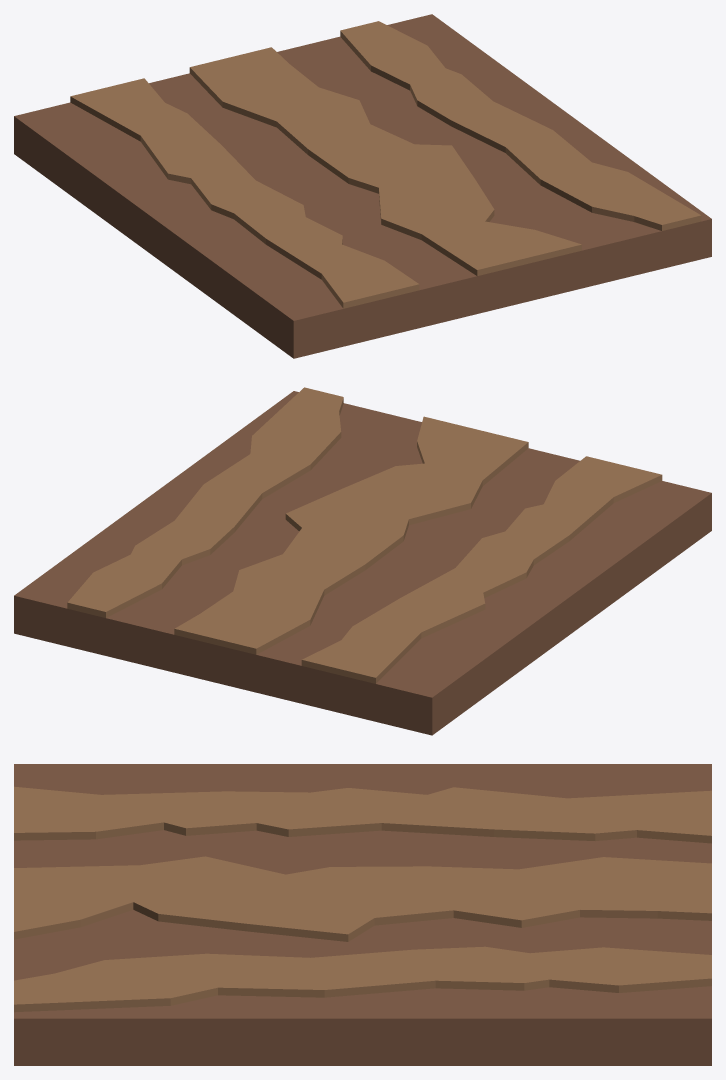
The model's file is CHAOMILHARAL2.fbx.
3 views of the same model, one above another, from view 1: azimuth 30°, elevation 25°; view 2: azimuth 150°, elevation 25°; view 3: azimuth 270°, elevation 25° (orthographic). The views are drawn at different scales.
Parts seen in each view (by area): view 1: Cube.002; view 2: Cube.002; view 3: Cube.002.
Boxes of the visible parts, x1=… form: Cube.002: x1=14, y1=14, x2=711, y2=358; Cube.002: x1=14, y1=387, x2=711, y2=735; Cube.002: x1=14, y1=764, x2=711, y2=1065.
Bounding box in the file's own units: 326 × 32.77 × 378.
